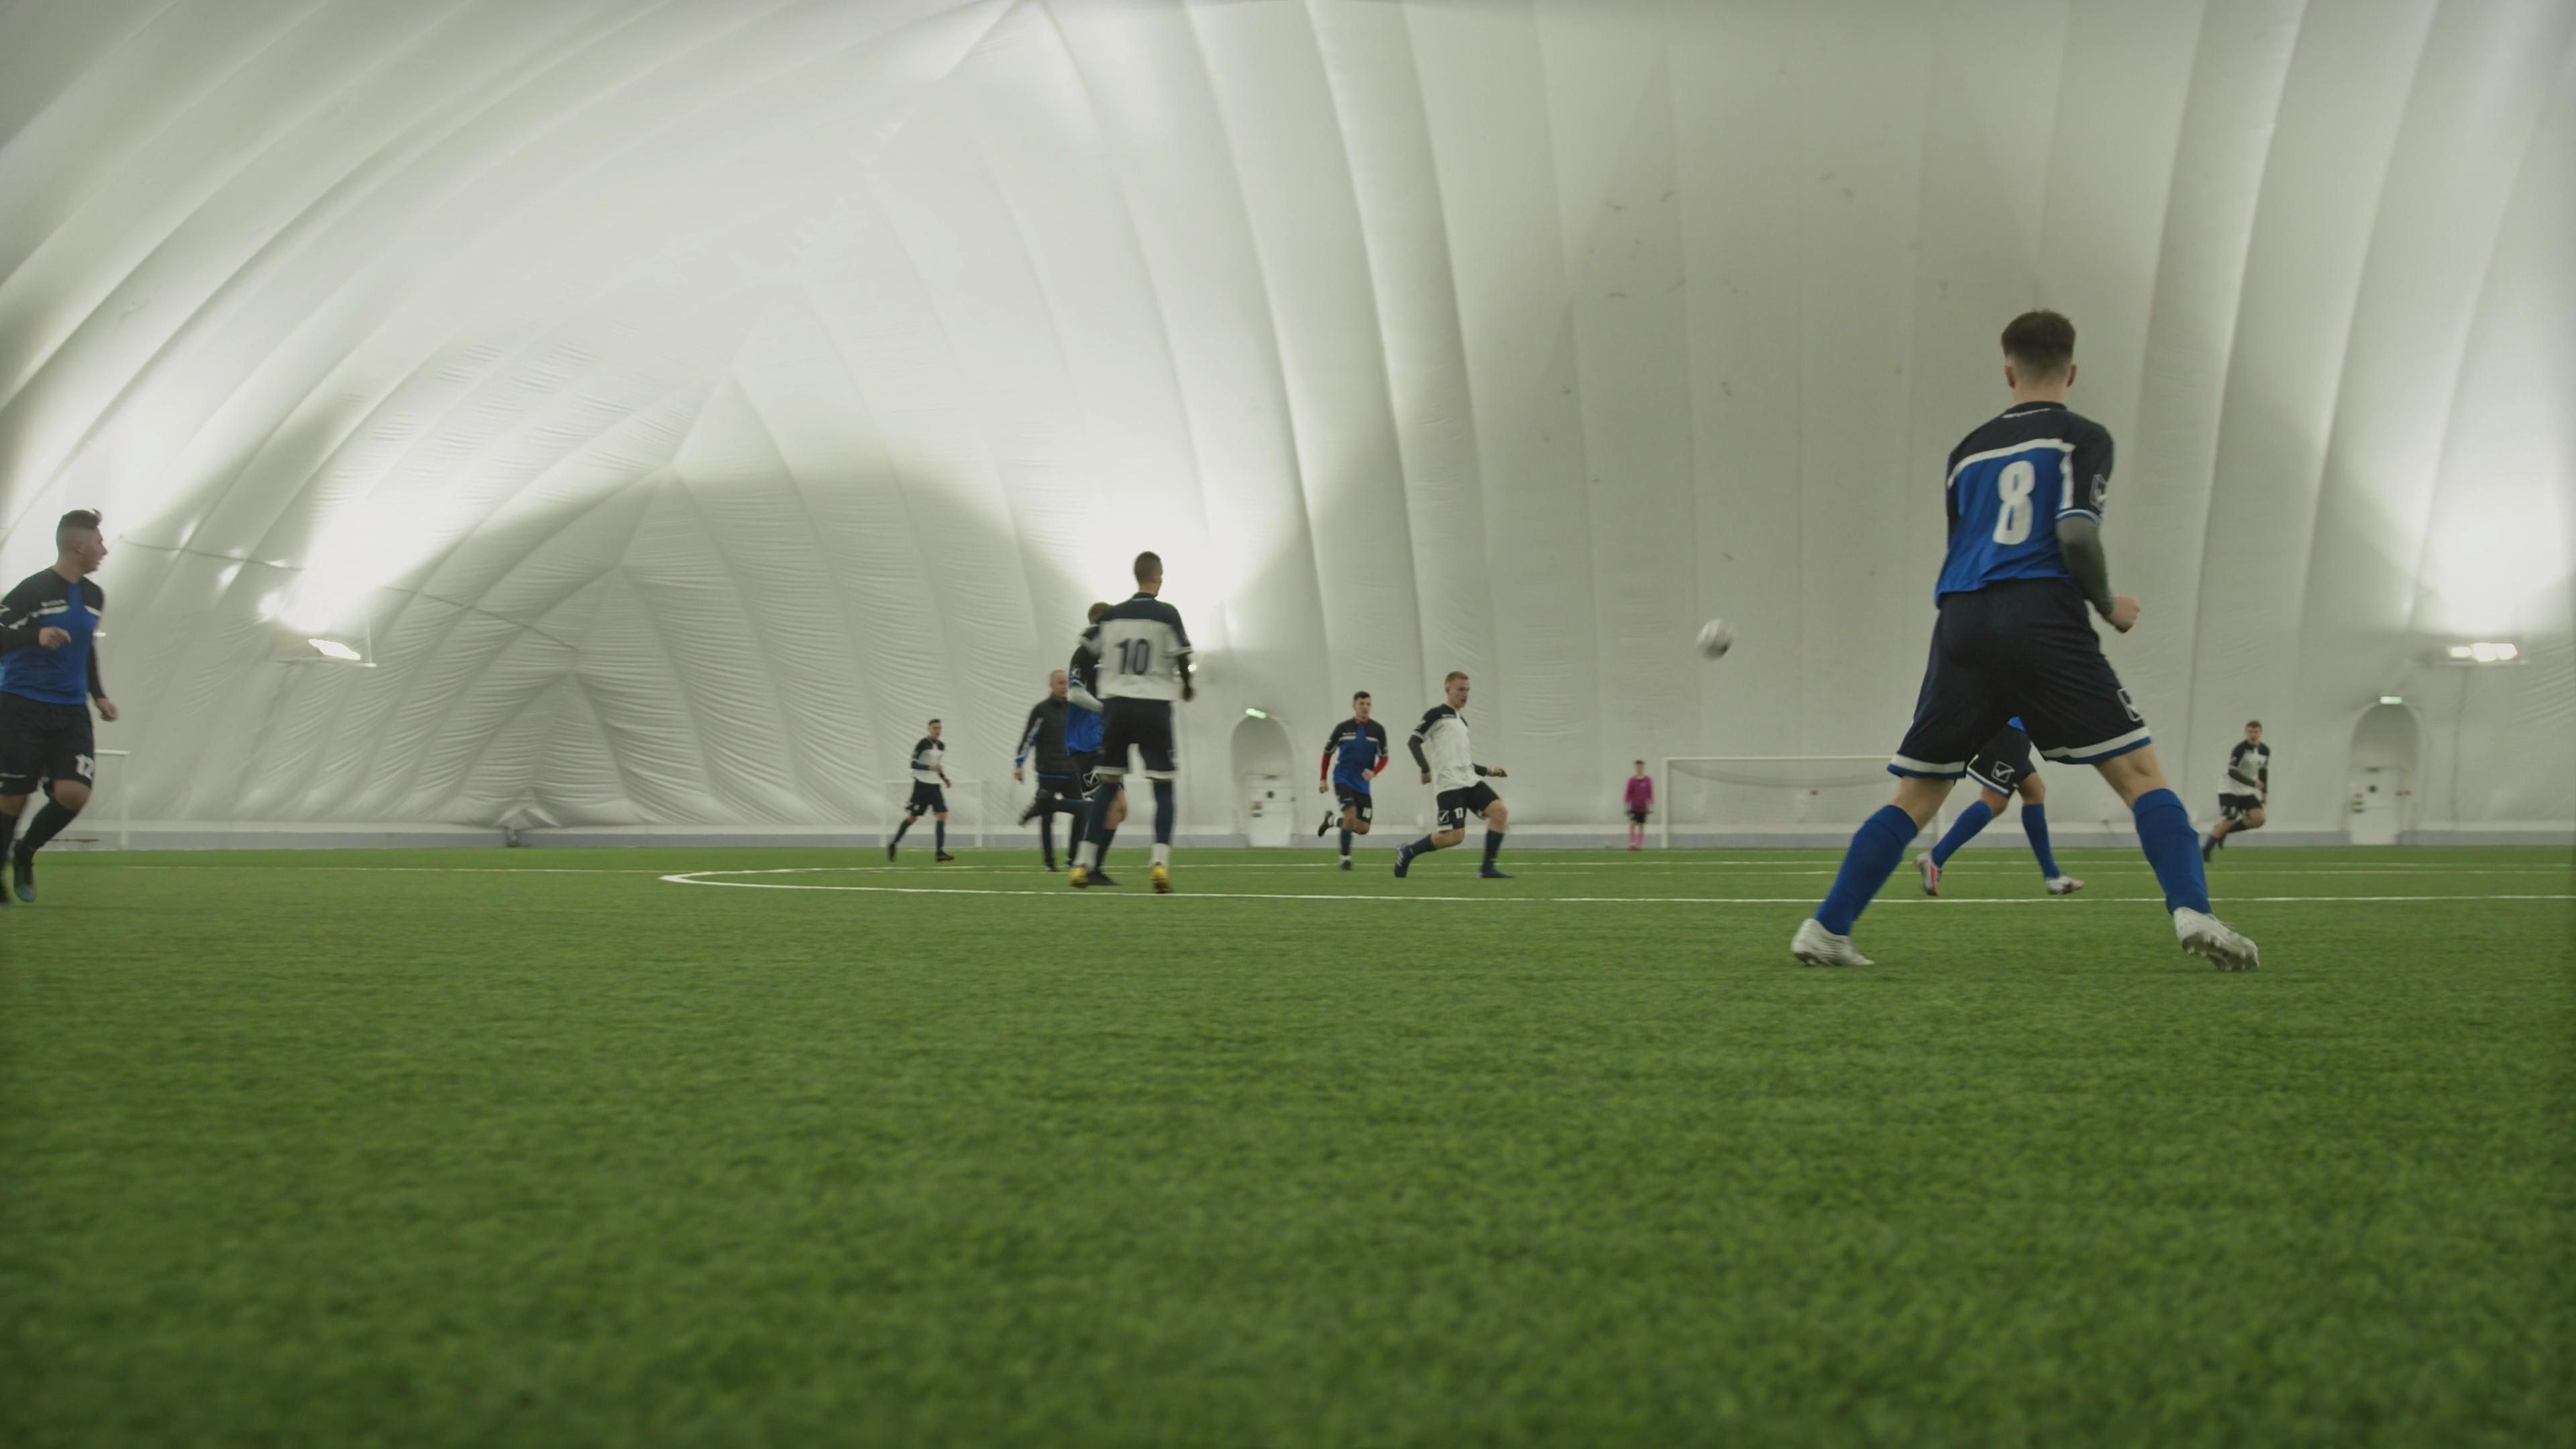other: (1014, 662, 1099, 878)
team1: (1783, 310, 2268, 980), (0, 508, 119, 909), (1920, 713, 2074, 899), (1318, 692, 1391, 862)
team1gk: (1621, 759, 1658, 858)
team2: (1076, 550, 1196, 895), (1394, 667, 1506, 881), (879, 718, 955, 865), (2212, 717, 2273, 846)
